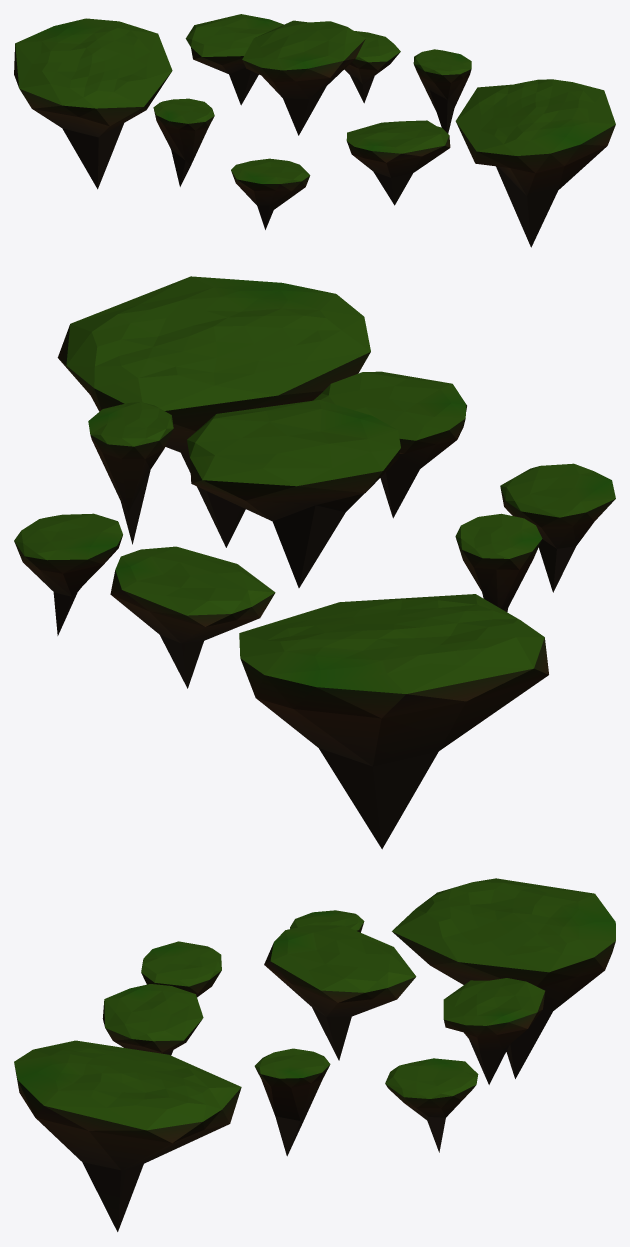
Rendered from islands.fbx.
3 renders of one model, top to bottom at view 1: azimuth 30°, elevation 25°; view 2: azimuth 150°, elevation 25°; view 3: azimuth 270°, elevation 25°, orthographic. The views are drawn at different scales.
Visible parts, largest first — view 1: big_island.001, big_island, mid_medium_island, medium_island, medium_island.001, small_island, tiny_island, tiny_island.001, small_island.001; view 2: big_island.001, big_island, mid_medium_island, medium_island.001, medium_island, small_island, small_island.001, tiny_island.001, tiny_island; view 3: big_island, big_island.001, mid_medium_island, medium_island.001, medium_island, small_island.001, tiny_island.001, small_island, tiny_island.
Part boxes in pixels (x1,y1,x2,y2): big_island.001: [14, 18, 172, 189]; big_island: [455, 79, 615, 247]; mid_medium_island: [242, 20, 365, 135]; medium_island: [346, 120, 450, 205]; medium_island.001: [185, 14, 283, 105]; small_island: [231, 158, 310, 229]; tiny_island: [153, 98, 214, 186]; tiny_island.001: [413, 49, 471, 133]; small_island.001: [344, 31, 400, 103]; big_island.001: [239, 594, 548, 849]; big_island: [57, 276, 370, 547]; mid_medium_island: [187, 400, 400, 587]; medium_island.001: [110, 546, 275, 688]; medium_island: [313, 371, 466, 518]; small_island: [500, 463, 615, 592]; small_island.001: [14, 513, 122, 635]; tiny_island.001: [88, 402, 173, 544]; tiny_island: [455, 513, 542, 611]; big_island: [14, 1040, 241, 1231]; big_island.001: [392, 878, 615, 1078]; mid_medium_island: [264, 925, 416, 1060]; medium_island.001: [443, 978, 545, 1084]; medium_island: [102, 984, 203, 1055]; small_island.001: [385, 1058, 478, 1152]; tiny_island.001: [254, 1048, 330, 1156]; small_island: [141, 941, 221, 997]; tiny_island: [290, 910, 364, 932].
Size of the model in its own units: 19.64 by 7.4 by 19.82.
